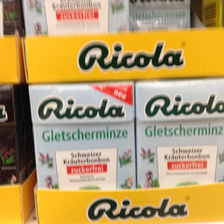candy: (28, 79, 137, 216), (134, 75, 224, 205), (22, 1, 129, 76)
